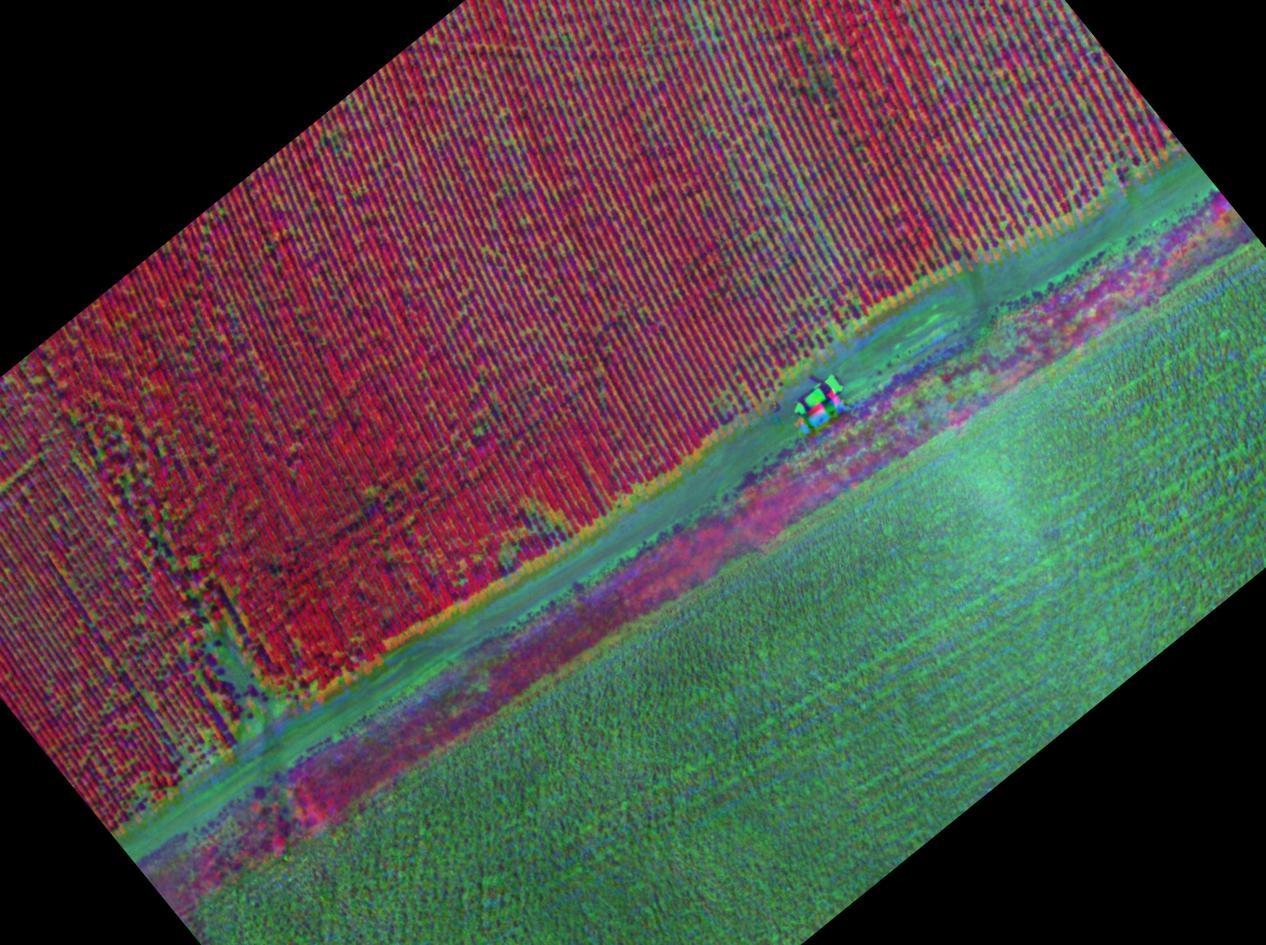dc: (177, 566, 298, 729), (762, 219, 876, 345), (485, 467, 576, 572), (783, 24, 873, 124)
